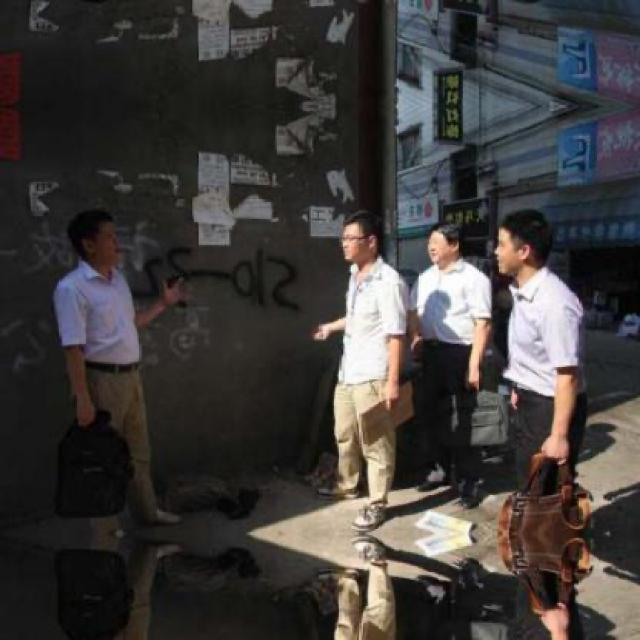sin casco: (0, 205, 151, 318), (499, 199, 566, 273), (409, 213, 468, 275), (324, 213, 390, 260)
